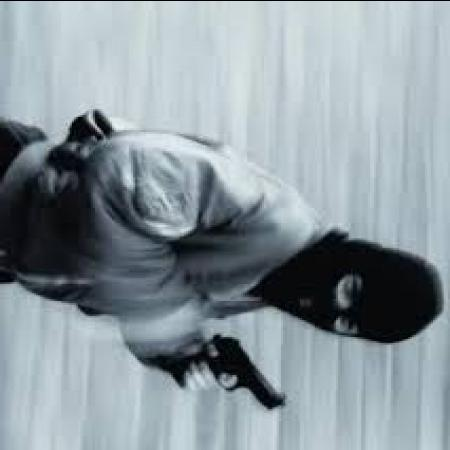Pistol: (167, 336, 294, 412)
